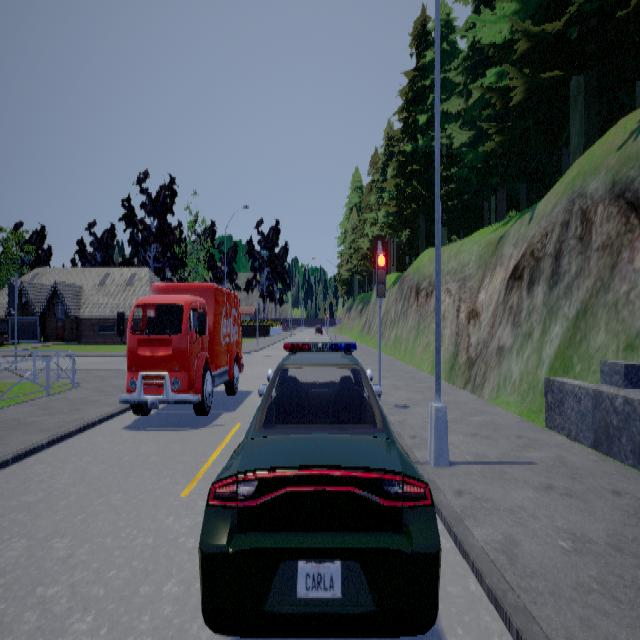red_light: (375, 242, 385, 306)
vehicle: (197, 340, 441, 637), (118, 282, 243, 414)
